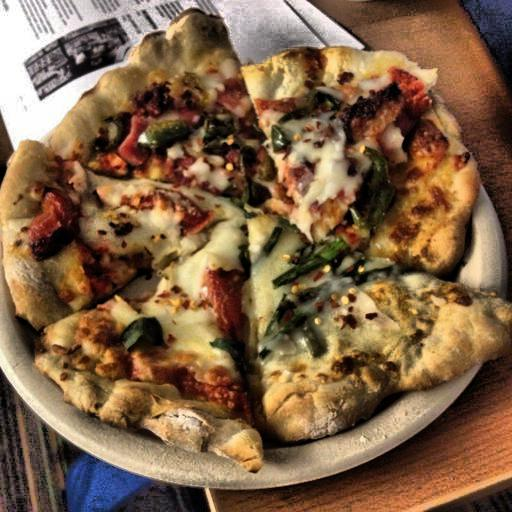pizza: (2, 44, 497, 461)
